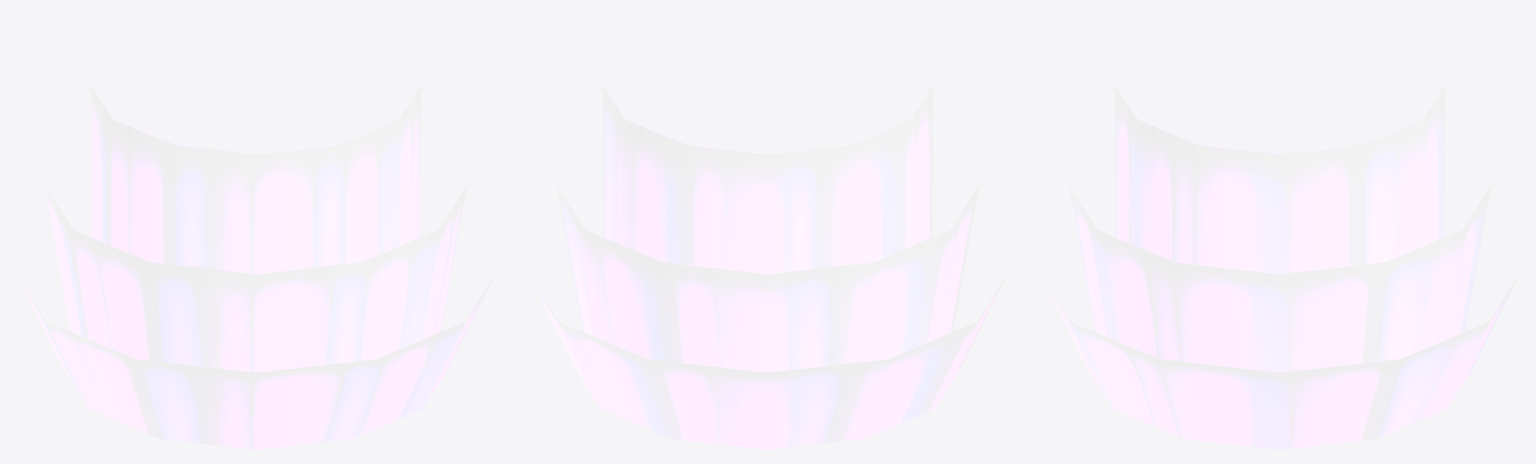
File: sfx_common_condition_violet2.glb
3 renders of one model, left to right at view 1: azimuth 30°, elevation 25°; view 2: azimuth 150°, elevation 25°; view 3: azimuth 270°, elevation 25°, orthographic.
Visible parts, largest first — view 1: sfx_common_condition_violet2_obj0, sfx_common_condition_violet2_obj1, sfx_common_condition_violet2_obj2; view 2: sfx_common_condition_violet2_obj0, sfx_common_condition_violet2_obj1, sfx_common_condition_violet2_obj2; view 3: sfx_common_condition_violet2_obj0, sfx_common_condition_violet2_obj1, sfx_common_condition_violet2_obj2.
Part boxes in pixels (x1,y1,x2,y2): sfx_common_condition_violet2_obj0: (91,84,420,273); sfx_common_condition_violet2_obj1: (45,185,466,372); sfx_common_condition_violet2_obj2: (16,273,495,449); sfx_common_condition_violet2_obj0: (603,84,932,273); sfx_common_condition_violet2_obj1: (557,185,978,372); sfx_common_condition_violet2_obj2: (528,273,1007,449); sfx_common_condition_violet2_obj0: (1115,84,1444,273); sfx_common_condition_violet2_obj1: (1069,185,1490,372); sfx_common_condition_violet2_obj2: (1040,273,1519,449).
Bounding box in the file's own units: 0.7606 × 0.4948 × 0.7606.
Materials: 1 (1 with a texture image).
